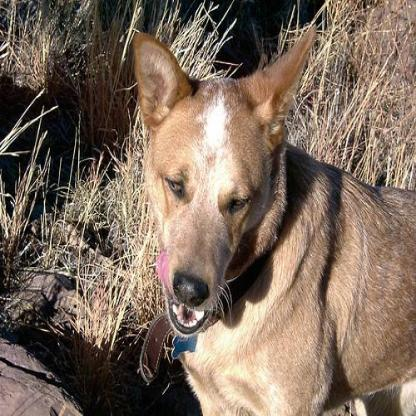dingo: (132, 24, 414, 414)
